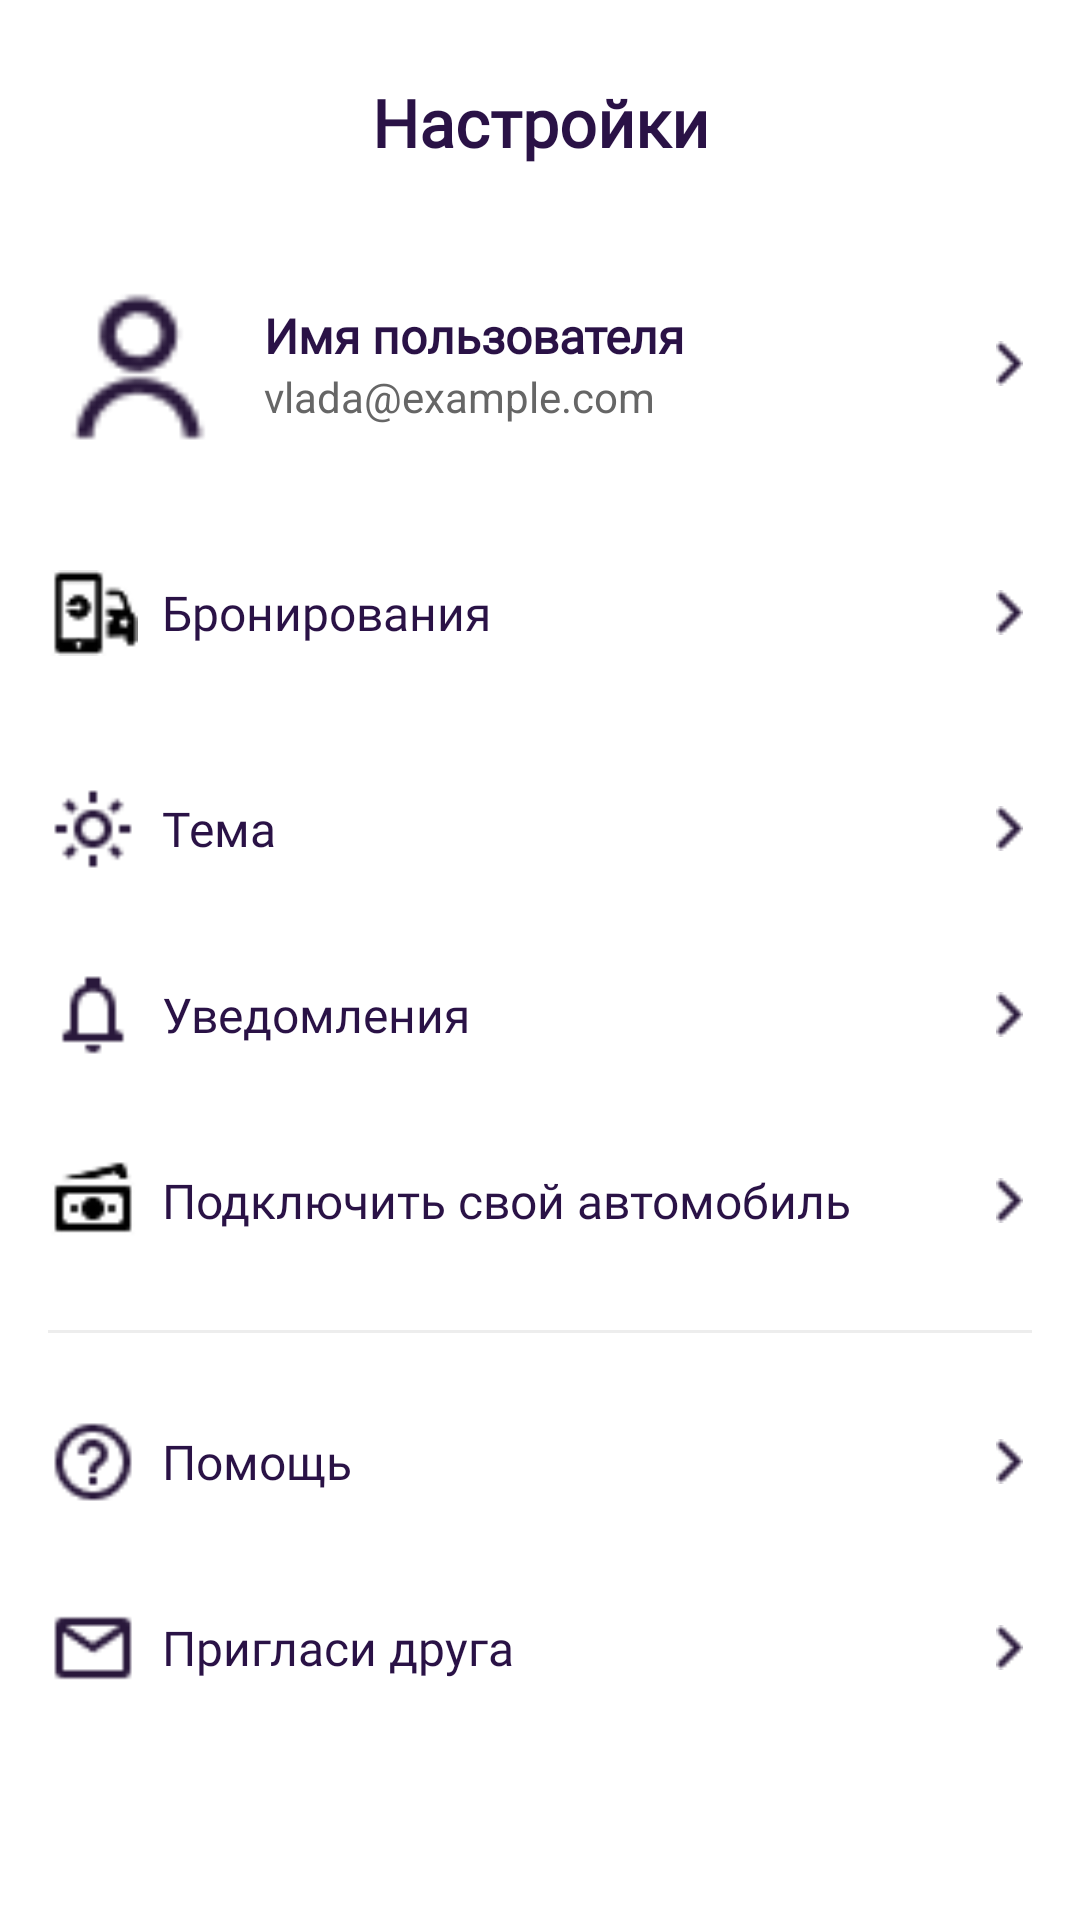

Named icons in this screenshot (1080px×1920px) and their bounding boxes, BBox(x1, y1, x2, y2):
arrow right: BBox(996, 341, 1023, 386), BBox(996, 590, 1023, 635), BBox(996, 806, 1023, 851), BBox(996, 992, 1023, 1037), BBox(996, 1178, 1023, 1223), BBox(996, 1439, 1023, 1484), BBox(996, 1625, 1023, 1670)
banknotes: BBox(54, 1162, 132, 1233)
notifications: BBox(62, 976, 124, 1054)
sun: BBox(54, 790, 132, 868)
taxi: BBox(54, 570, 138, 656)
what: BBox(54, 1423, 132, 1501)
